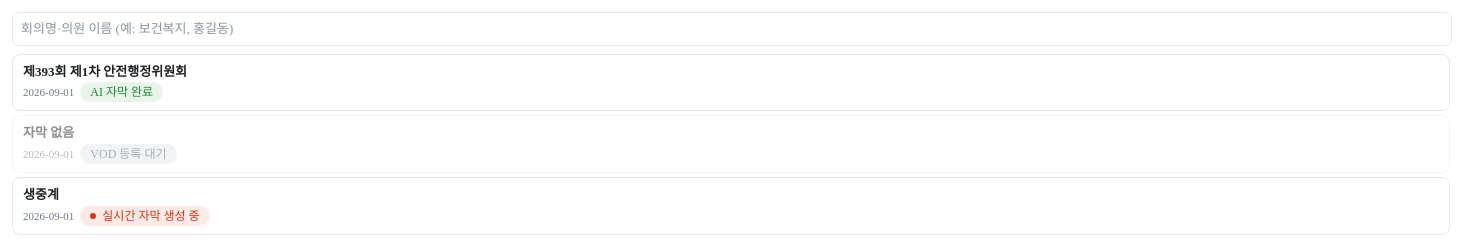
Test: AiMeetingList › filters by title
The image size is (1464, 252).
Type "안전행정" into the field with test id "ai-meeting-search" at (732, 29), box [12,12,1452,46]
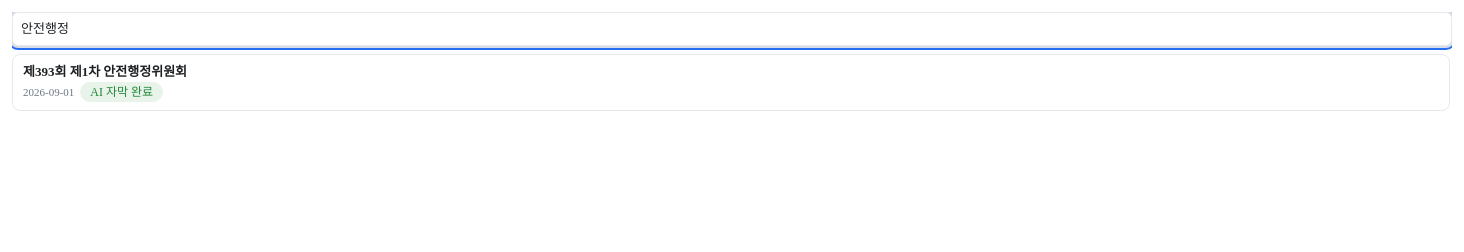
Expected: the number of buttons with test id "ai-meeting-row" is 1, [12,54,1450,111]
